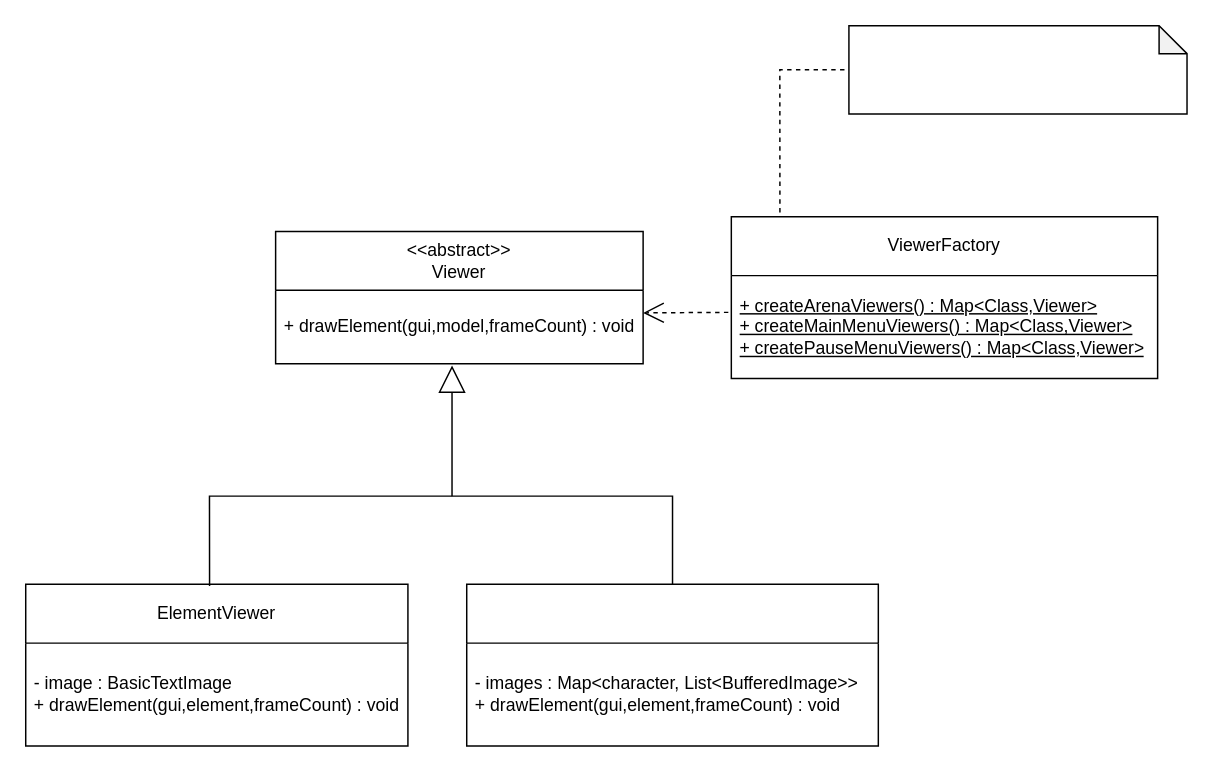
The diagram is 1213 pixels wide and 772 high, and some of its shapes have lost their labels. Here are the shapes that lost their labels. From the top down, the box of each, then its label:
(847, 24, 1187, 114): viewers = ViewerFactory.createViewers()
(465, 583, 878, 746): MovableElementViewer
